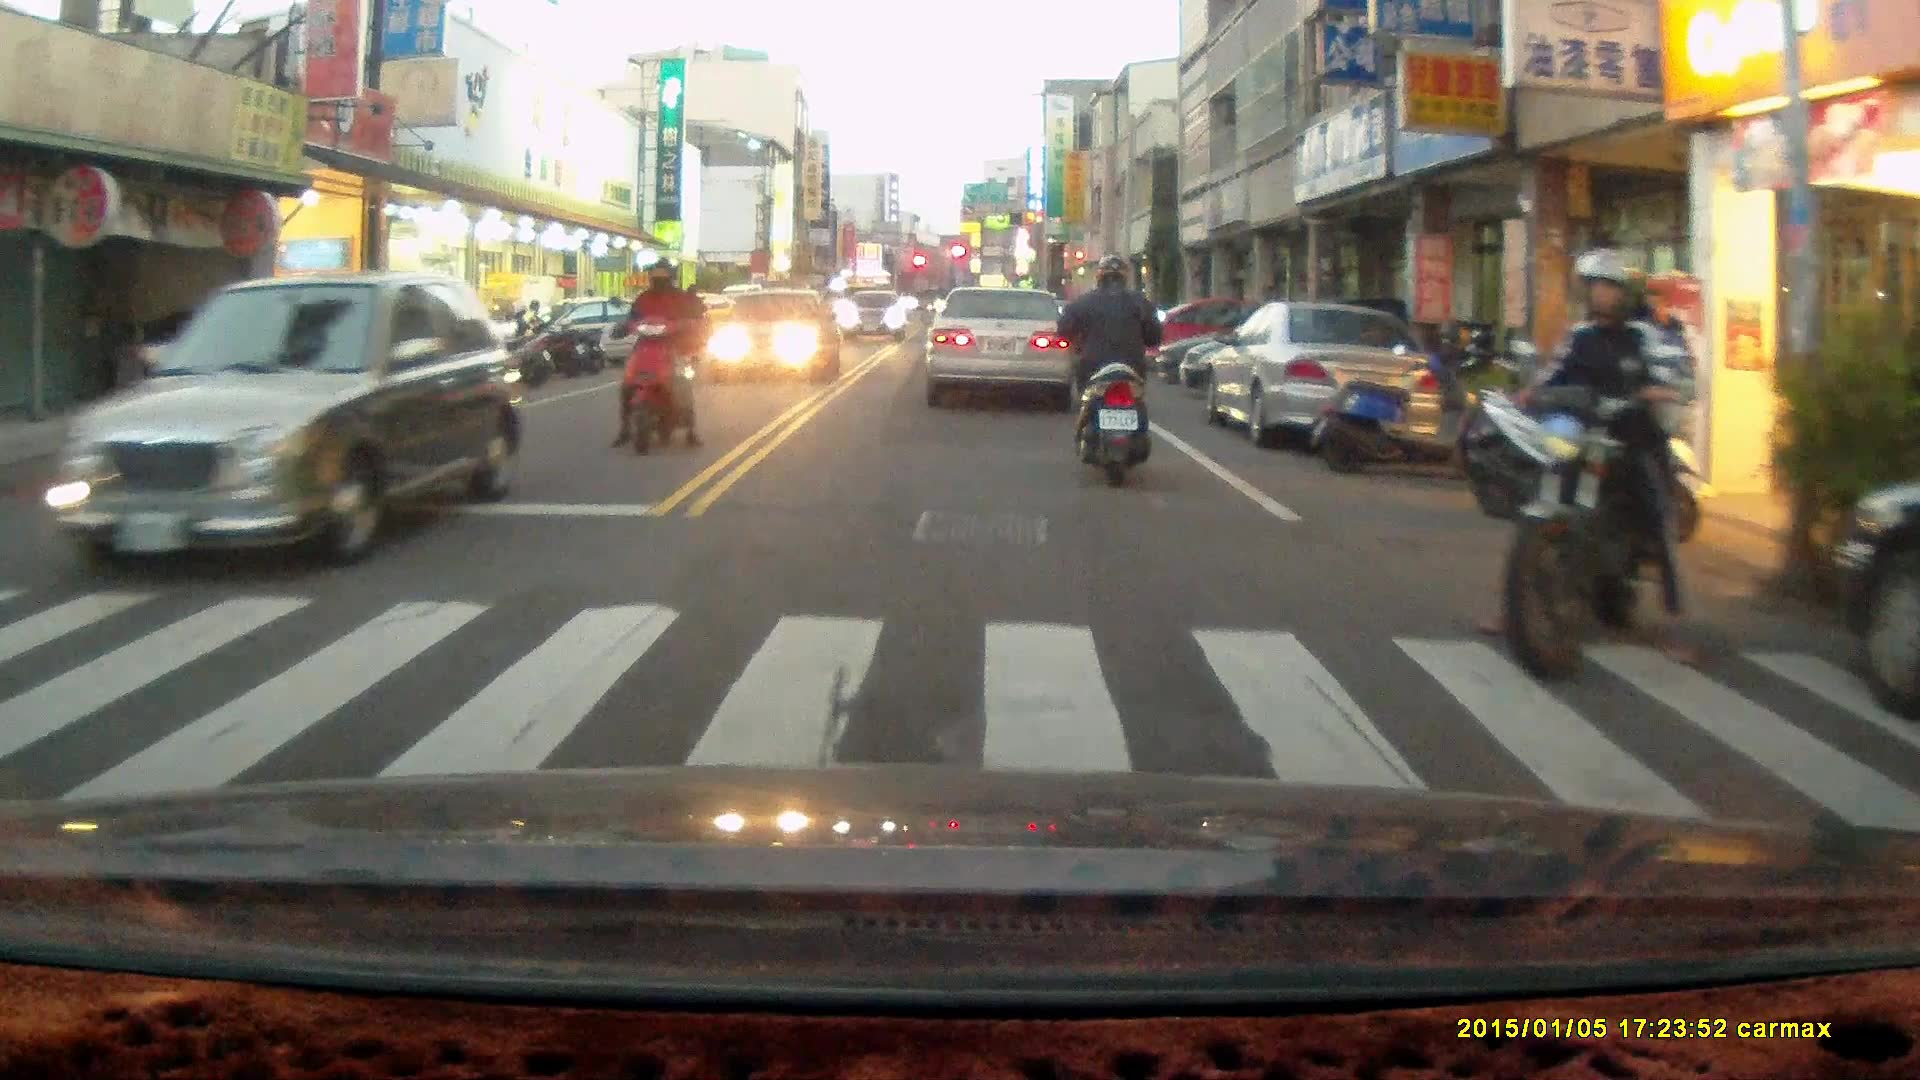pedestrian: (680, 281, 708, 358)
rider: (1491, 244, 1705, 677), (1058, 251, 1170, 485), (606, 255, 703, 457)
vehicle: (41, 269, 520, 580), (1210, 304, 1447, 454), (1829, 472, 1920, 718), (928, 286, 1082, 387), (703, 285, 839, 381), (837, 290, 913, 347)
